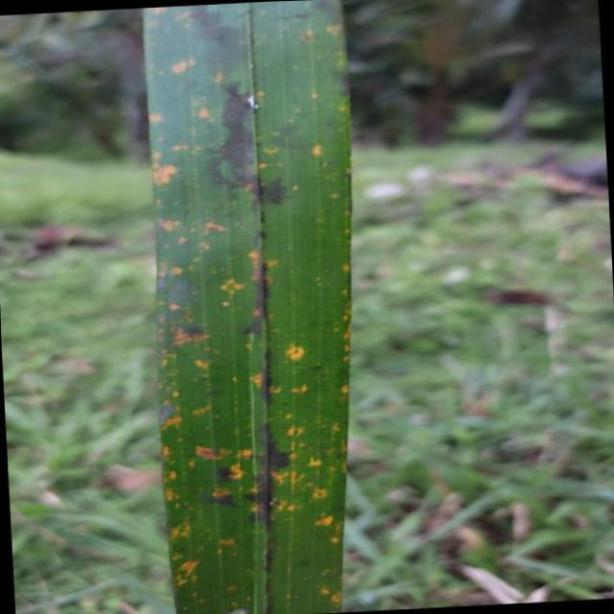Healthy: (141, 5, 350, 614)
